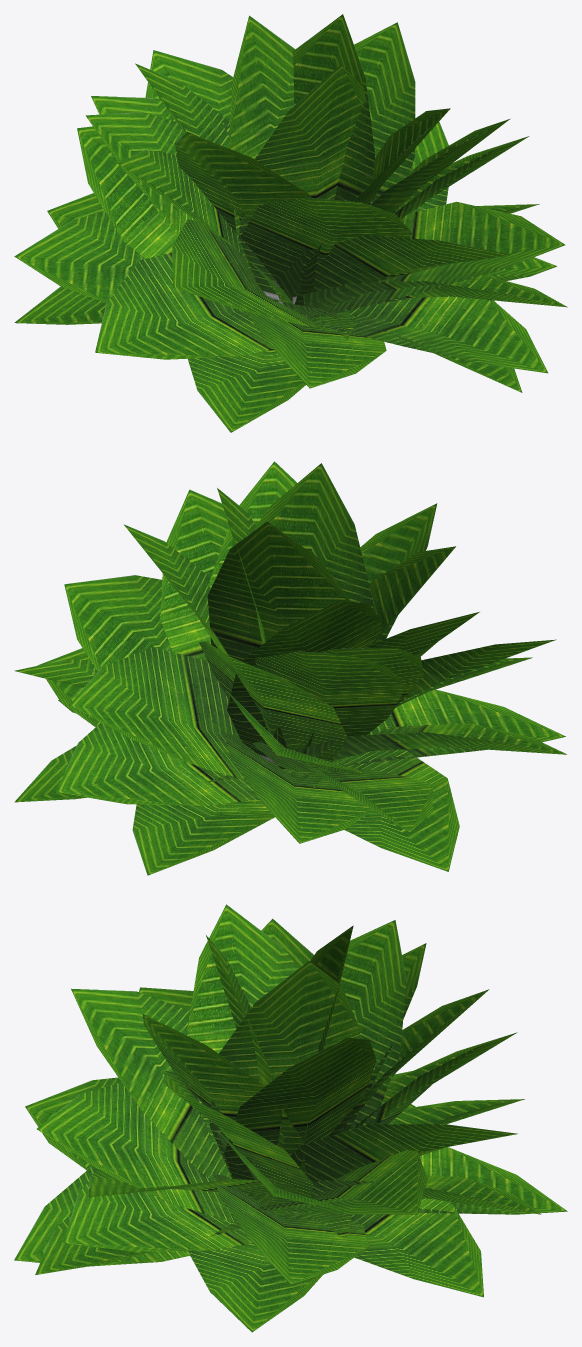
Rendered from bush_1.FBX.
The picture shows the model from 3 angles, top to bottom: view 1: azimuth 30°, elevation 25°; view 2: azimuth 150°, elevation 25°; view 3: azimuth 270°, elevation 25°; orthographic projection.
Visible parts, largest first — view 1: Plane012, Plane004, Plane034, Plane028, Plane023, Plane032, Plane017, Plane013, Plane005, Plane018, Plane030, Plane033 (+17 smaller); view 2: Plane015, Plane032, Plane008, Plane016, Plane034, Plane025, Plane001, Plane007, Plane006, Plane020, Plane031, Plane022 (+16 smaller); view 3: Plane023, Plane017, Plane033, Plane021, Plane010, Plane002, Plane030, Plane031, Plane009, Plane003, Plane015, Plane029 (+17 smaller).
Boxes of the visible parts, x1=… form: Plane012: x1=95, y1=252, x2=272, y2=359; Plane004: x1=319, y1=296, x2=547, y2=373; Plane034: x1=239, y1=64, x2=372, y2=301; Plane028: x1=306, y1=201, x2=564, y2=318; Plane023: x1=241, y1=197, x2=412, y2=301; Plane032: x1=228, y1=15, x2=295, y2=276; Plane017: x1=274, y1=235, x2=510, y2=301; Plane013: x1=14, y1=211, x2=144, y2=302; Plane005: x1=188, y1=310, x2=355, y2=432; Plane018: x1=172, y1=219, x2=324, y2=329; Plane030: x1=175, y1=132, x2=311, y2=232; Plane033: x1=292, y1=14, x2=375, y2=204; Plane015: x1=69, y1=647, x2=273, y2=779; Plane032: x1=207, y1=521, x2=350, y2=766; Plane008: x1=56, y1=722, x2=258, y2=806; Plane016: x1=64, y1=575, x2=172, y2=671; Plane034: x1=255, y1=463, x2=373, y2=608; Plane025: x1=255, y1=651, x2=405, y2=769; Plane001: x1=132, y1=768, x2=327, y2=875; Plane007: x1=224, y1=733, x2=372, y2=843; Plane006: x1=332, y1=749, x2=459, y2=871; Plane020: x1=199, y1=641, x2=347, y2=766; Plane031: x1=227, y1=600, x2=382, y2=763; Plane022: x1=160, y1=489, x2=229, y2=660; Plane023: x1=71, y1=988, x2=231, y2=1181; Plane017: x1=37, y1=1082, x2=236, y2=1222; Plane033: x1=209, y1=961, x2=360, y2=1178; Plane021: x1=224, y1=1037, x2=376, y2=1180; Plane010: x1=63, y1=1181, x2=251, y2=1251; Plane002: x1=350, y1=1198, x2=483, y2=1297; Plane030: x1=187, y1=904, x2=298, y2=1146; Plane031: x1=340, y1=920, x2=406, y2=1129; Plane009: x1=214, y1=1174, x2=368, y2=1284; Plane003: x1=188, y1=1212, x2=351, y2=1332; Plane015: x1=290, y1=1124, x2=517, y2=1182; Plane029: x1=142, y1=1014, x2=305, y2=1174.
Size of the model in its own units: 7651 by 4217 by 7476.
1 material, 1 textured.
